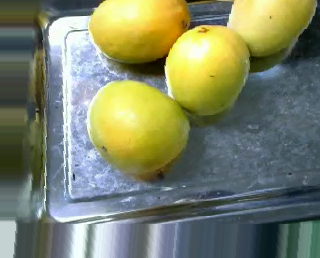Mango: (88, 79, 190, 174), (167, 24, 250, 113), (89, 0, 191, 64), (225, 0, 318, 54)
